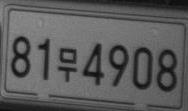0: (132, 46, 153, 89)
1: (34, 37, 54, 80)
4: (82, 43, 105, 85)
8: (156, 49, 178, 93), (10, 35, 31, 78)
9: (108, 44, 129, 86)
무: (58, 47, 77, 82)
